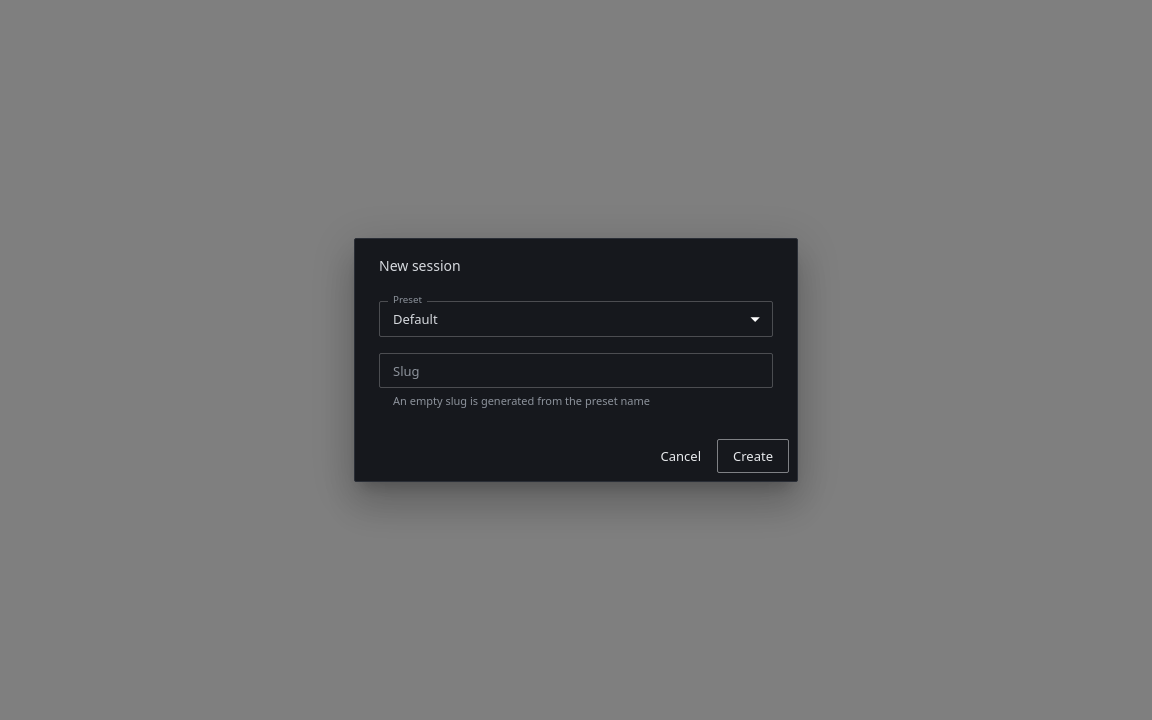
Test case: NewSessionDialog › preselects_default_and_only_preset_and_slug
Click the dropdown named "Preset" at x=415, y=318, box [393,310,438,328]
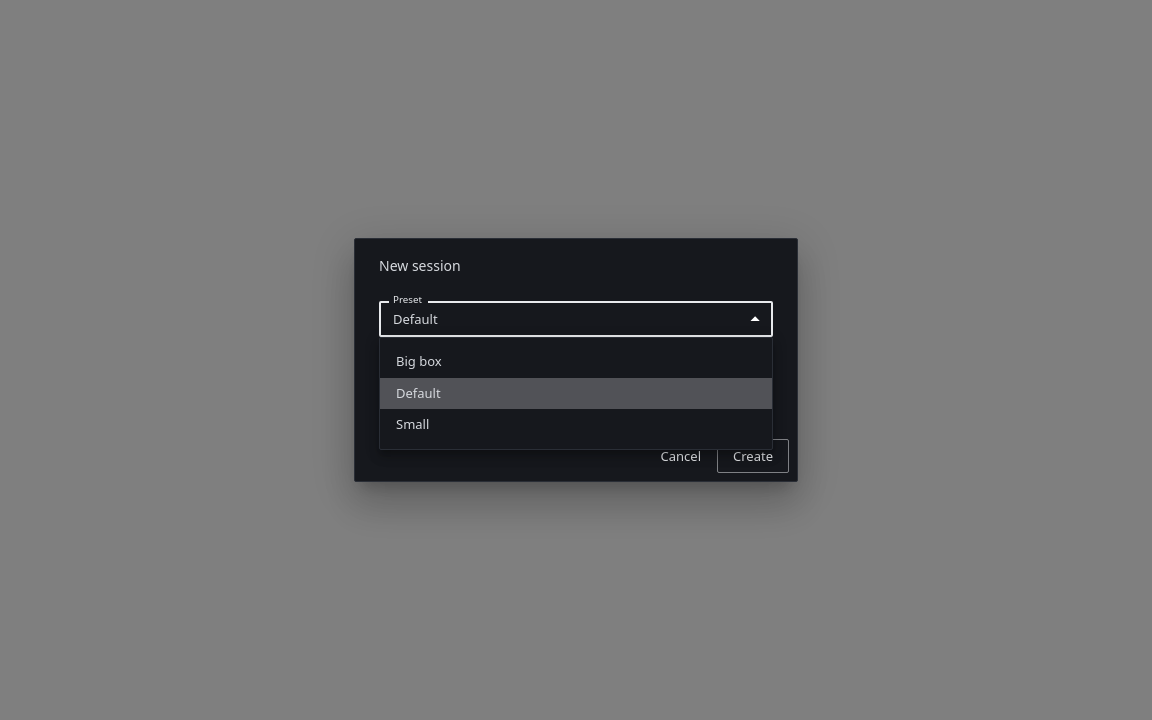
expect the options read "Big box", "Default", "Small", in this order: met, box [396,352,442,370]; [380,378,772,409]; [396,415,429,433]
Press Escape
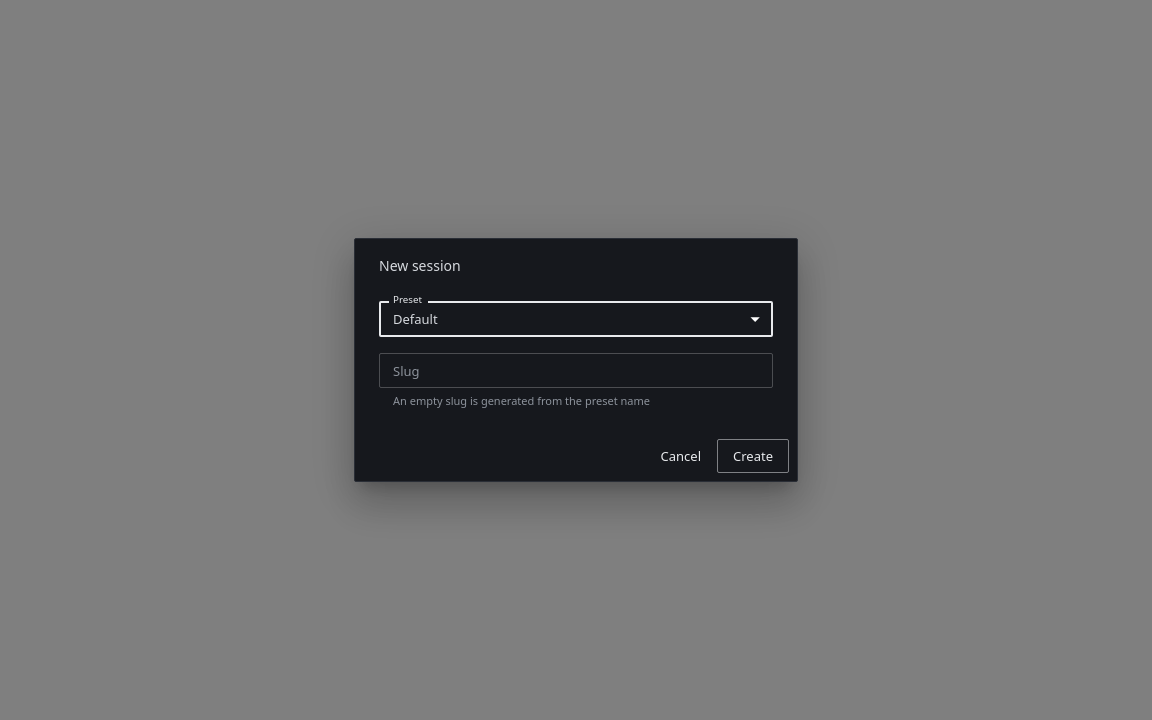
expect the text "An empty slug is generated from the preset name" is shown: met, box [393,393,650,408]
expect the list is gone: met
